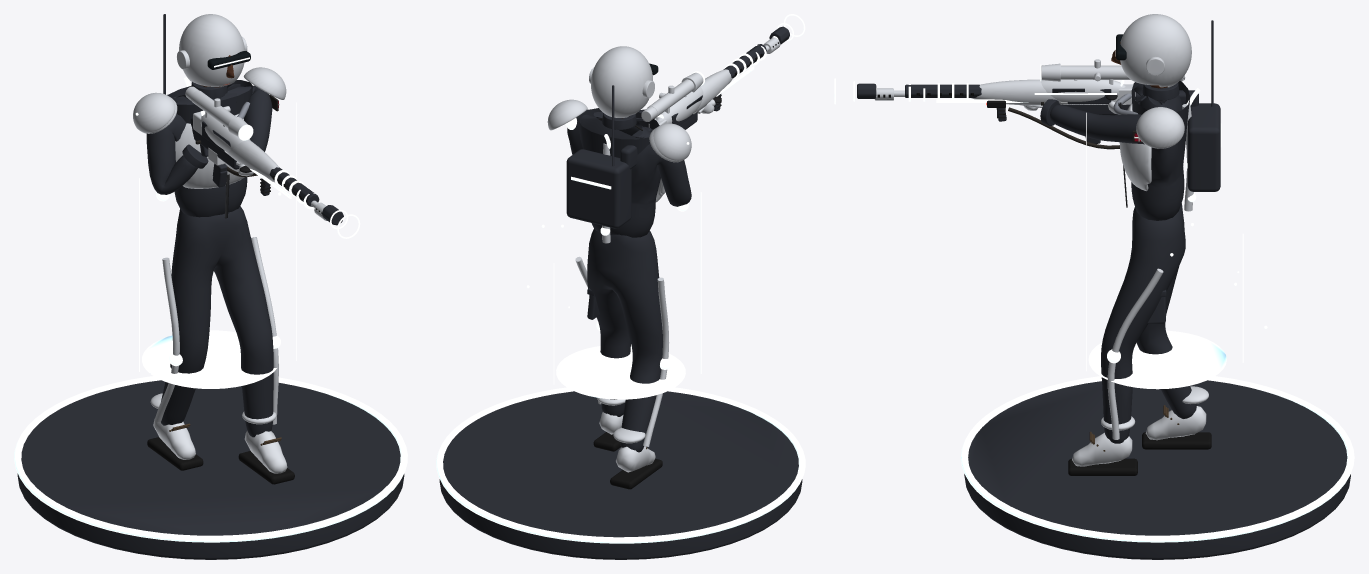
File: skytte_krom.glb
3 renders of one model, left to right at view 1: azimuth 30°, elevation 25°; view 2: azimuth 150°, elevation 25°; view 3: azimuth 270°, elevation 25°, orthographic. The views are drawn at different scales.
Parts seen in each view (by area): view 1: fod_net, menneske_net, op4_net, hoved_net, vaaben_net, op4.001_net, op2.001_net, op3_net, op3.001_net, op2_net, op4.002_net; view 2: fod_net, menneske_net, op3_net, op4_net, hoved_net, vaaben_net, op4.001_net, op2.001_net, op3.001_net, op2_net, op4.002_net; view 3: fod_net, menneske_net, op4_net, hoved_net, vaaben_net, op3_net, op2.001_net, op4.001_net, op2_net, op3.001_net, op4.002_net, op1.001_net.
Part boxes in pixels (x1,y1,x2,y2): fod_net: (14,376,407,559); menneske_net: (146,80,294,484); op4_net: (135,102,296,388); hoved_net: (177,14,250,87); vaaben_net: (167,86,321,213); op4.001_net: (155,192,280,424); op2.001_net: (172,67,286,443); op3_net: (133,14,175,132); op3.001_net: (200,110,343,225); op2_net: (200,114,270,195); op4.002_net: (184,77,360,238); fod_net: (436,387,805,559); menneske_net: (567,96,721,489); op3_net: (566,85,691,228); op4_net: (527,142,701,399); hoved_net: (589,46,658,117); vaaben_net: (620,42,779,169); op4.001_net: (566,118,688,446); op2.001_net: (547,99,665,202); op3.001_net: (657,26,789,125); op2_net: (656,86,721,123); op4.002_net: (604,14,805,148); fod_net: (961,376,1354,559); menneske_net: (1024,81,1211,475); op4_net: (1086,112,1267,389); hoved_net: (1111,14,1191,87); vaaben_net: (877,59,1198,115); op3_net: (1187,20,1221,191); op2.001_net: (1089,93,1184,441); op4.001_net: (1107,103,1196,439); op2_net: (986,79,1125,121); op3.001_net: (857,80,1124,143); op4.002_net: (834,78,1200,104); op1.001_net: (876,88,1119,149).
Bounding box in the file's own units: 1.94 × 2.51 × 2.56.
